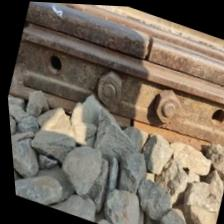person: (114, 17, 180, 73), (119, 110, 142, 131)
